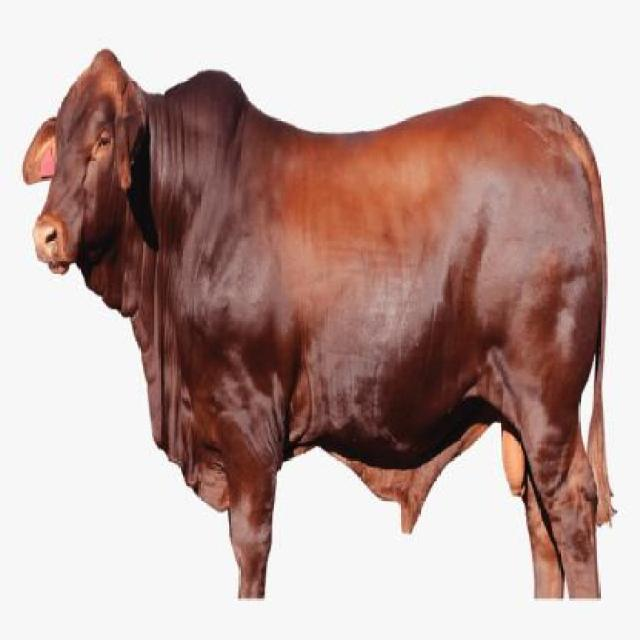Cow: (23, 49, 608, 598)
